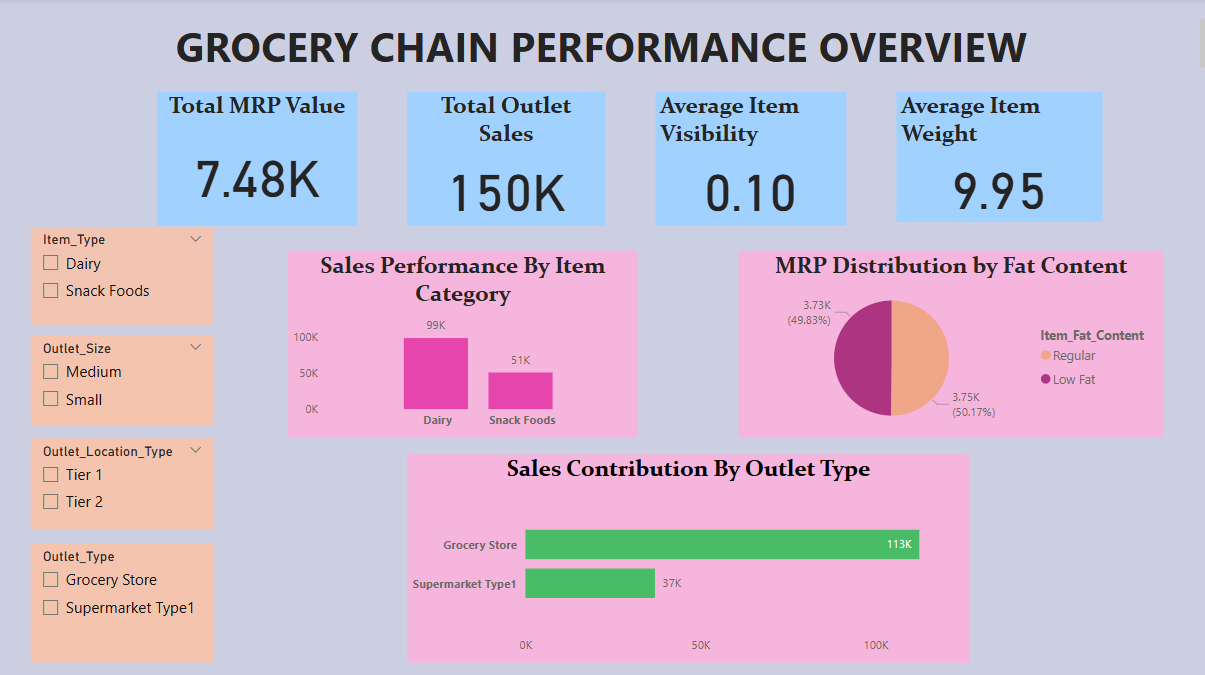

The page's visual inventory and layout, read from the dashboard file:
{"tool":"powerbi","page":{"name":"Page 3","canvas":[1280,720],"ordinal":0},"visuals":[{"type":"card","title":"Total Outlet Sales","fields":{"Values":["Sum(GROCERY SALES CSV CLEANED.Item_Outlet_Sales)"]},"box":[431.7,99.5,208.9,141.3],"z":0},{"type":"card","title":"Total MRP Value","fields":{"Values":["Sum(GROCERY SALES CSV CLEANED.Item_MRP)"]},"box":[167.1,99.5,210.9,141.3],"z":1000},{"type":"card","title":"Average Item Visibility","fields":{"Values":["Avg(GROCERY SALES CSV CLEANED.Item_Visibility)"]},"box":[692.3,99.5,200.9,141.3],"z":2000},{"type":"card","title":"Average Item Weight","fields":{"Values":["Avg(GROCERY SALES CSV CLEANED.Item_Weight)"]},"box":[947,99.5,216.9,137.3],"z":3000},{"type":"columnChart","title":"Sales Performance By Item Category","fields":{"Category":["GROCERY SALES CSV CLEANED.Item_Type"],"Y":["Sum(GROCERY SALES CSV CLEANED.Item_Outlet_Sales)"]},"box":[306.4,266.6,368.1,197],"z":4000},{"type":"barChart","title":"Sales Contribution By Outlet Type","fields":{"Category":["GROCERY SALES CSV CLEANED.Outlet_Type"],"Y":["Sum(GROCERY SALES CSV CLEANED.Item_Outlet_Sales)"]},"box":[431.7,481.4,592.9,218.8],"z":5000},{"type":"pieChart","title":"MRP Distribution by Fat Content","fields":{"Category":["GROCERY SALES CSV CLEANED.Item_Fat_Content"],"Y":["Sum(GROCERY SALES CSV CLEANED.Item_MRP)"]},"box":[779.9,266.6,447.6,197],"z":6000},{"type":"slicer","fields":{"Values":["GROCERY SALES CSV CLEANED.Item_Type"]},"box":[34.5,241.4,192.8,103.4],"z":8000},{"type":"slicer","fields":{"Values":["GROCERY SALES CSV CLEANED.Outlet_Location_Type"]},"box":[34.5,463.9,192.8,95.6],"z":10000},{"type":"slicer","fields":{"Values":["GROCERY SALES CSV CLEANED.Outlet_Size"]},"box":[34.5,355.8,192.8,94],"z":11000},{"type":"slicer","fields":{"Values":["GROCERY SALES CSV CLEANED.Outlet_Type"]},"box":[33.8,575,193,125.3],"z":12000},{"type":"textbox","box":[0,17.9,1279.2,63.7],"z":13000}]}

Visuals, with their boxes in screenshot pixels (x1, y1, x2, y2), scaled from the page's 1280x720 canvas onto the 1205x675 screenshot:
"Total Outlet Sales" card: [x1=406, y1=93, x2=603, y2=226]
"Total MRP Value" card: [x1=157, y1=93, x2=356, y2=226]
"Average Item Visibility" card: [x1=652, y1=93, x2=841, y2=226]
"Average Item Weight" card: [x1=892, y1=93, x2=1096, y2=222]
"Sales Performance By Item Category" columnChart: [x1=288, y1=250, x2=635, y2=435]
"Sales Contribution By Outlet Type" barChart: [x1=406, y1=451, x2=965, y2=656]
"MRP Distribution by Fat Content" pieChart: [x1=734, y1=250, x2=1156, y2=435]
slicer - GROCERY SALES CSV CLEANED.Item_Type: [x1=32, y1=226, x2=214, y2=323]
slicer - GROCERY SALES CSV CLEANED.Outlet_Location_Type: [x1=32, y1=435, x2=214, y2=525]
slicer - GROCERY SALES CSV CLEANED.Outlet_Size: [x1=32, y1=334, x2=214, y2=422]
slicer - GROCERY SALES CSV CLEANED.Outlet_Type: [x1=32, y1=539, x2=214, y2=657]
textbox: [x1=0, y1=17, x2=1204, y2=76]
